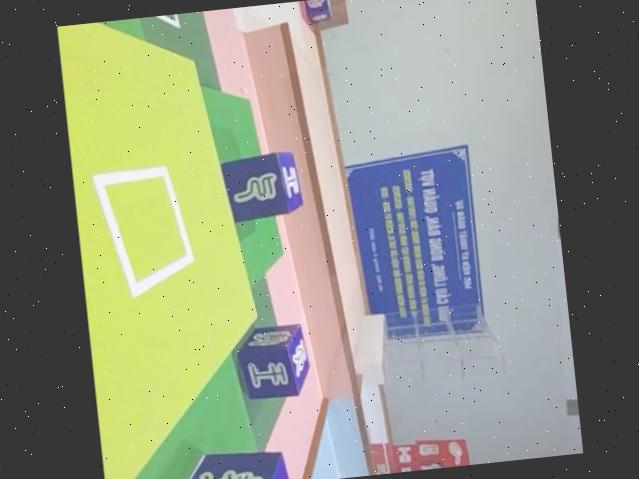R2 Fake Blue: (217, 148, 305, 224), (229, 320, 310, 402), (147, 445, 293, 479)
